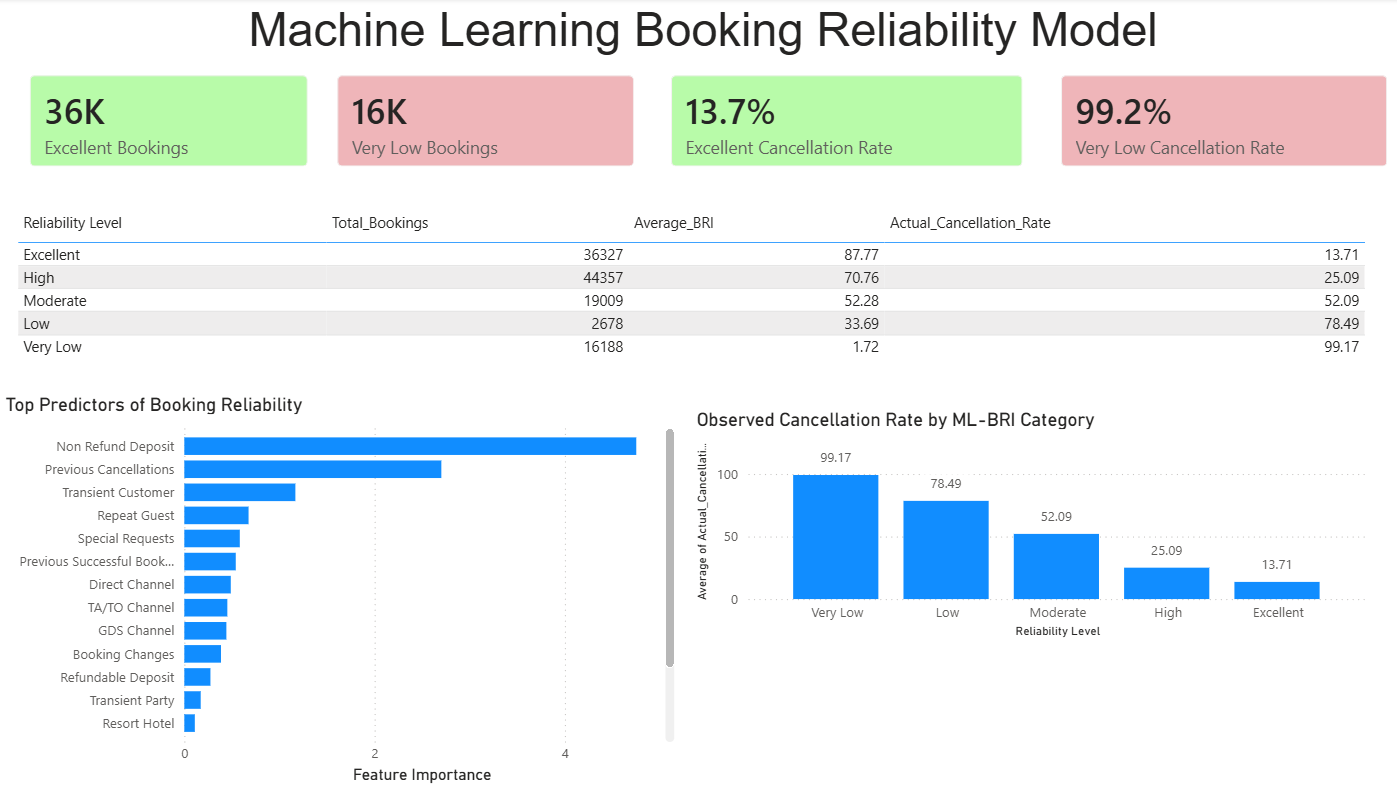

Layout of this report page (visuals, bound fields, positions):
{"tool":"powerbi","page":{"name":"Page 6","canvas":[1280,720],"ordinal":4},"visuals":[{"type":"cardVisual","fields":{"Data":["ML_BRI_Data.Excellent Bookings"]},"box":[10.6,54,287.7,117.4],"z":0},{"type":"cardVisual","fields":{"Data":["ML_BRI_Data.Very Low Bookings"]},"box":[290.1,54,304.1,117.4],"z":1000},{"type":"cardVisual","fields":{"Data":["ML_BRI_Data.Excellent Cancellation Rate"]},"box":[594.2,54,354.6,117.4],"z":2000},{"type":"cardVisual","fields":{"Data":["ML_BRI_Data.Very Low Cancellation Rate"]},"box":[948.8,54,331.2,117.4],"z":3000},{"type":"tableEx","fields":{"Values":["ML_BRI_Summary.Reliability Level","ML_BRI_Summary.Total_Bookings","ML_BRI_Summary.Average_BRI","ML_BRI_Summary.Actual_Cancellation_Rate"]},"box":[10.1,188.8,1239.2,183.8],"z":4000},{"type":"clusteredBarChart","title":"Top Predictors of Booking Reliability","fields":{"Category":["Feature_Importance.Feature"],"Y":["Sum(Feature_Importance.Absolute Coefficient)"]},"box":[0,359.6,619.1,360.7],"z":5000},{"type":"lineClusteredColumnComboChart","title":"Observed Cancellation Rate by ML-BRI Category","fields":{"Category":["ML_BRI_Summary.Reliability Level"],"Y":["Avg(ML_BRI_Summary.Actual_Cancellation_Rate)"]},"box":[629.3,373.3,620.2,213.9],"z":6000},{"type":"textbox","box":[0,0,1280.2,65.5],"z":7000}]}

Visuals, with their boxes in screenshot pixels (x1, y1, x2, y2), scaled from the page's 1280x720 canvas onto the 1397x786 screenshot:
cardVisual - ML_BRI_Data.Excellent Bookings: {"x1": 12, "y1": 59, "x2": 326, "y2": 187}
cardVisual - ML_BRI_Data.Very Low Bookings: {"x1": 317, "y1": 59, "x2": 649, "y2": 187}
cardVisual - ML_BRI_Data.Excellent Cancellation Rate: {"x1": 649, "y1": 59, "x2": 1036, "y2": 187}
cardVisual - ML_BRI_Data.Very Low Cancellation Rate: {"x1": 1036, "y1": 59, "x2": 1396, "y2": 187}
tableEx - ML_BRI_Summary.Reliability Level x ML_BRI_Summary.Total_Bookings: {"x1": 11, "y1": 206, "x2": 1363, "y2": 407}
"Top Predictors of Booking Reliability" clusteredBarChart: {"x1": 0, "y1": 393, "x2": 676, "y2": 785}
"Observed Cancellation Rate by ML-BRI Category" lineClusteredColumnComboChart: {"x1": 687, "y1": 408, "x2": 1364, "y2": 641}
textbox: {"x1": 0, "y1": 0, "x2": 1396, "y2": 72}
